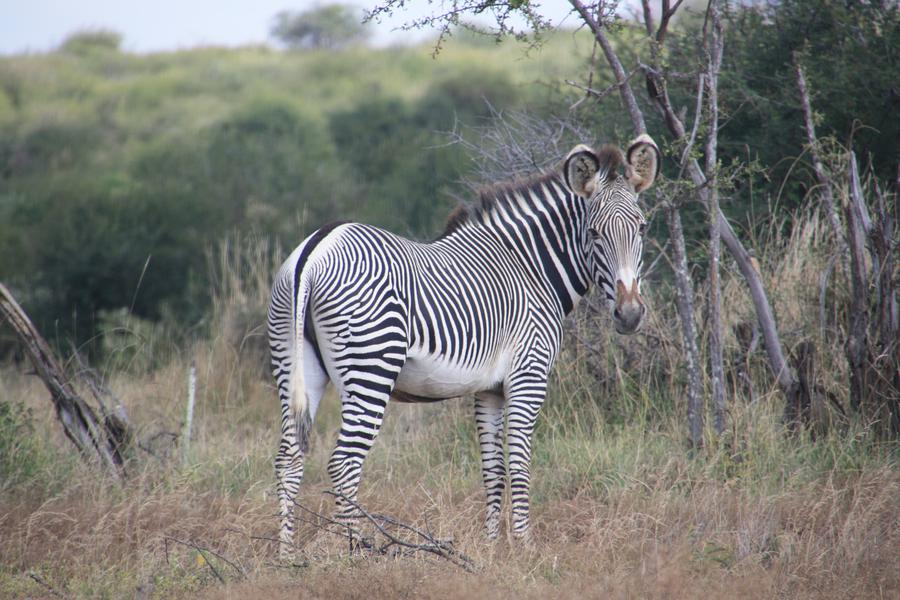zebra_grevys: (303, 212, 561, 369)
